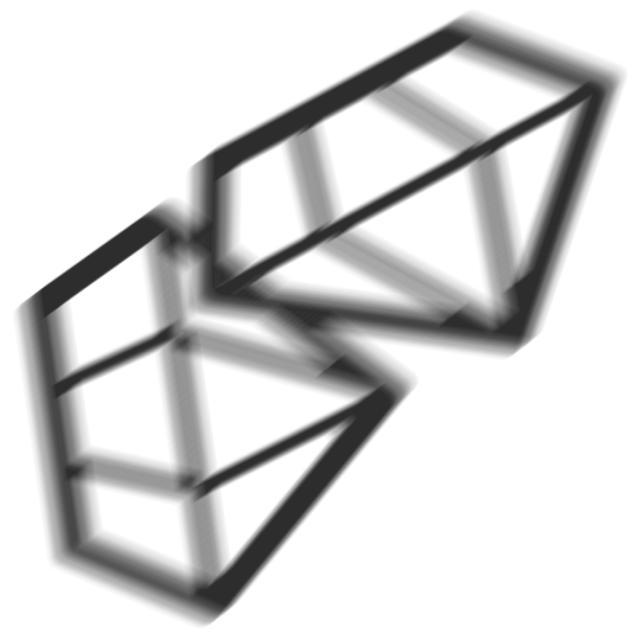diamond: (10, 193, 432, 636), (167, 6, 632, 378)
